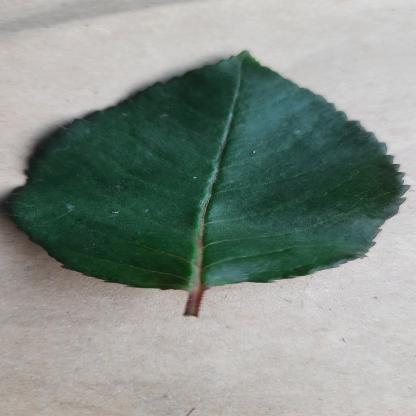normal: (9, 51, 408, 290)
